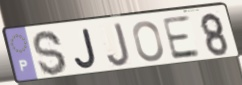8: (199, 9, 230, 57)
E: (159, 14, 202, 62)
J: (105, 21, 132, 68), (72, 27, 98, 71)
O: (131, 19, 166, 63)
S: (31, 29, 69, 77)
